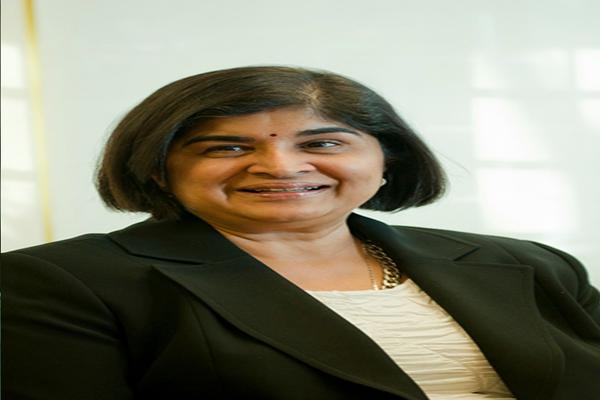Indian: (174, 114, 374, 220)
